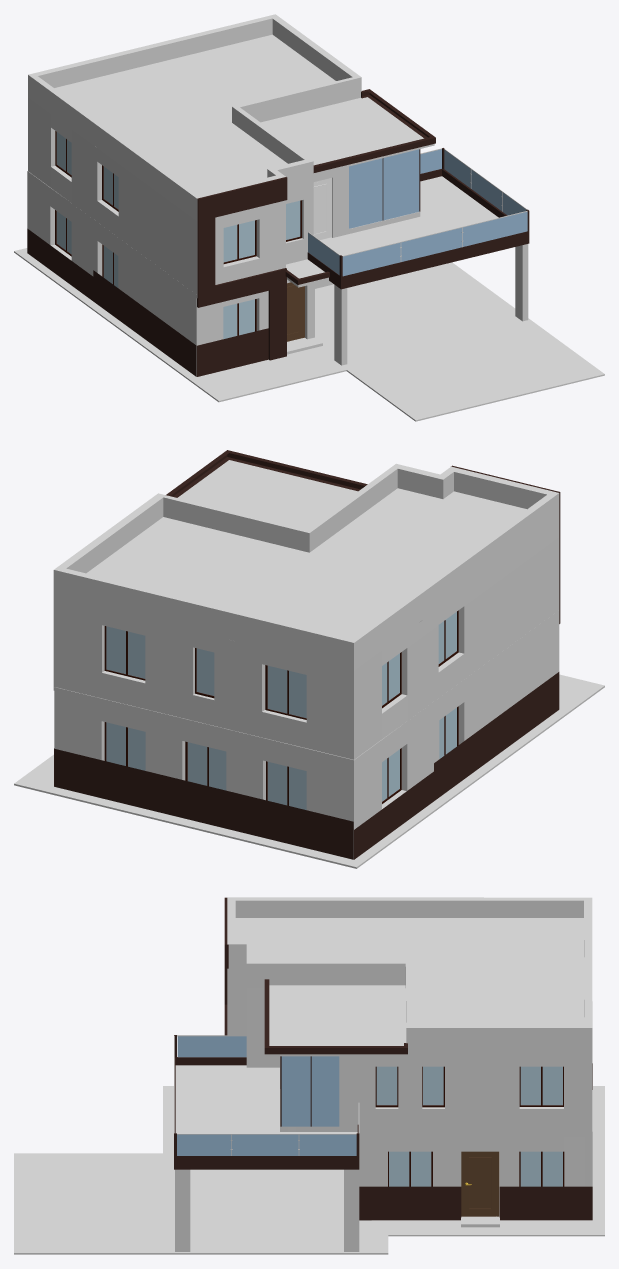
File: m1_building.fbx
The picture shows the model from 3 angles, top to bottom: view 1: azimuth 30°, elevation 25°; view 2: azimuth 150°, elevation 25°; view 3: azimuth 270°, elevation 25°; orthographic projection. The views are drawn at different scales.
Parts seen in each view (by area): view 1: m1_rooftop, m1_extfloor, m1_floor1, m1_extbrown, m1_floor, m1_extglass, m1_dirt, m1_roof1_floor, m1_wndows, m1_door3, m1_door; view 2: m1_rooftop, m1_floor1, m1_floor, m1_dirt, m1_wndows, m1_extfloor, m1_roof1_floor, m1_extbrown; view 3: m1_rooftop, m1_extfloor, m1_floor1, m1_extglass, m1_floor, m1_roof1_floor, m1_wndows, m1_dirt, m1_extbrown, m1_door2, m1_interior_floor.
Part boxes in pixels (<box>): m1_rooftop: <box>28,14,434,220</box>; m1_extfloor: <box>14,248,604,421</box>; m1_floor1: <box>28,97,420,297</box>; m1_extbrown: <box>197,89,529,360</box>; m1_floor: <box>27,176,528,376</box>; m1_extglass: <box>308,148,529,276</box>; m1_dirt: <box>27,228,268,376</box>; m1_roof1_floor: <box>27,171,498,299</box>; m1_wndows: <box>55,131,301,339</box>; m1_door3: <box>313,178,331,239</box>; m1_door: <box>287,282,304,341</box>; m1_rooftop: <box>53,460,559,669</box>; m1_floor1: <box>53,520,559,759</box>; m1_floor: <box>54,616,559,859</box>; m1_dirt: <box>54,672,559,859</box>; m1_wndows: <box>104,610,458,809</box>; m1_extfloor: <box>14,674,604,868</box>; m1_roof1_floor: <box>54,610,559,766</box>; m1_extbrown: <box>166,450,560,623</box>; m1_rooftop: <box>227,897,592,1056</box>; m1_extfloor: <box>14,1086,604,1254</box>; m1_floor1: <box>227,968,592,1135</box>; m1_extglass: <box>174,1035,359,1155</box>; m1_floor: <box>175,1137,592,1251</box>; m1_roof1_floor: <box>175,1001,592,1137</box>; m1_wndows: <box>375,1066,564,1186</box>; m1_dirt: <box>359,1063,592,1220</box>; m1_extbrown: <box>174,897,407,1169</box>; m1_door2: <box>461,1151,499,1216</box>; m1_interior_floor: <box>461,1152,499,1227</box>.
Bounding box in the file's own units: 1785 × 969 × 2670.
